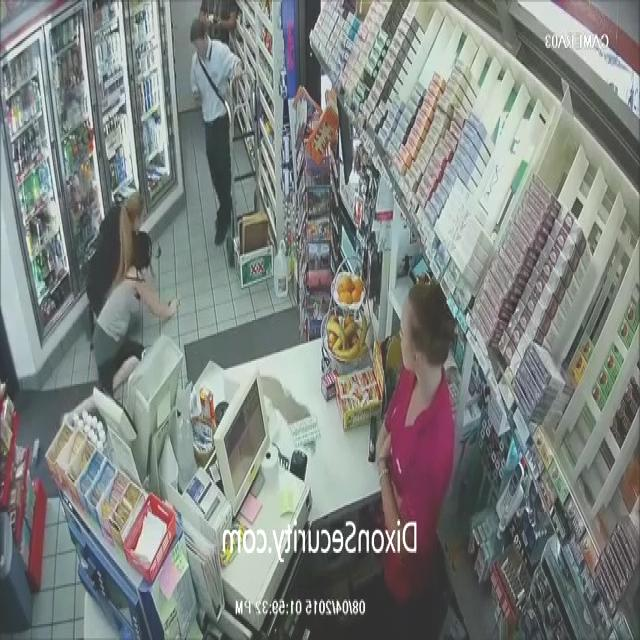fight: (82, 186, 155, 383)
